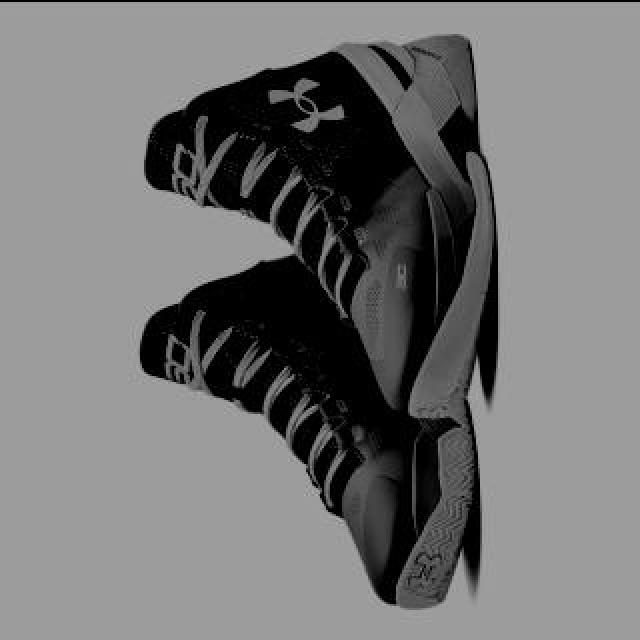shoe: (141, 32, 493, 412), (136, 234, 476, 606)
